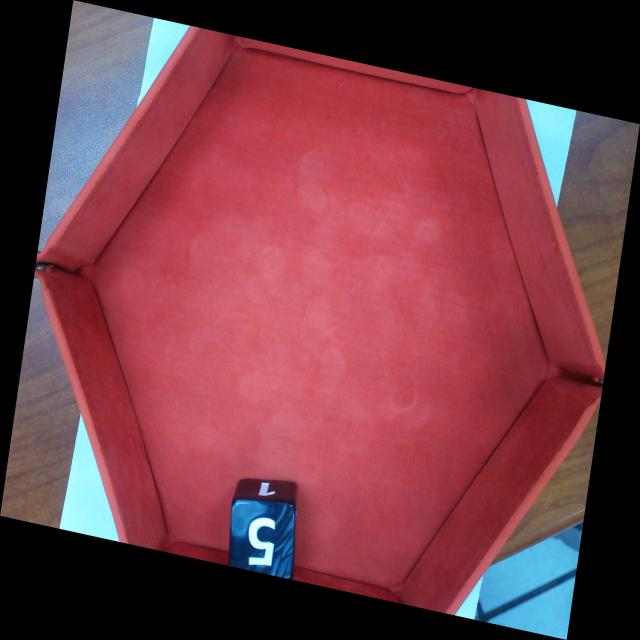dice: (226, 499, 296, 587)
